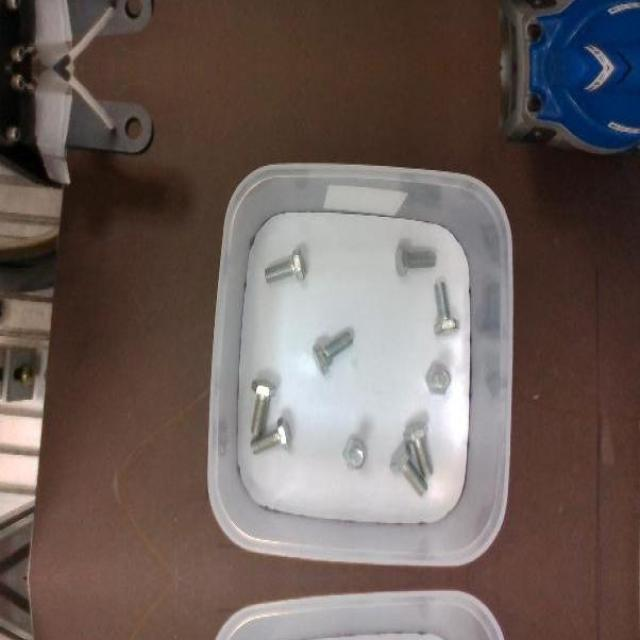screw: (389, 442, 429, 498), (311, 330, 352, 374), (403, 421, 433, 476), (251, 417, 292, 455), (251, 378, 277, 436), (264, 248, 304, 283), (434, 281, 460, 334), (394, 243, 435, 276), (341, 438, 367, 469), (427, 362, 451, 394)
